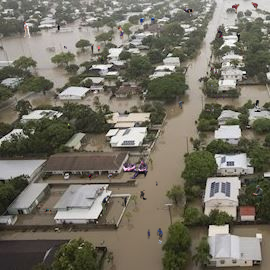Human: (101, 194, 127, 214), (200, 56, 227, 74), (136, 181, 161, 200), (123, 160, 148, 179), (73, 172, 115, 183), (232, 2, 258, 14), (147, 228, 163, 244), (224, 28, 240, 42), (96, 0, 115, 11), (252, 185, 264, 202), (106, 184, 123, 193), (114, 25, 124, 40), (203, 104, 215, 116), (23, 21, 31, 38), (184, 5, 195, 16), (140, 17, 155, 25), (91, 44, 102, 54), (42, 86, 52, 97), (254, 100, 262, 112), (214, 95, 228, 101), (216, 29, 223, 38), (177, 101, 184, 109), (98, 55, 104, 64), (43, 209, 52, 214), (100, 187, 105, 193), (57, 24, 60, 33), (67, 123, 70, 130), (108, 36, 112, 41), (64, 46, 67, 49), (211, 84, 213, 88), (68, 50, 69, 53), (152, 179, 153, 180)
